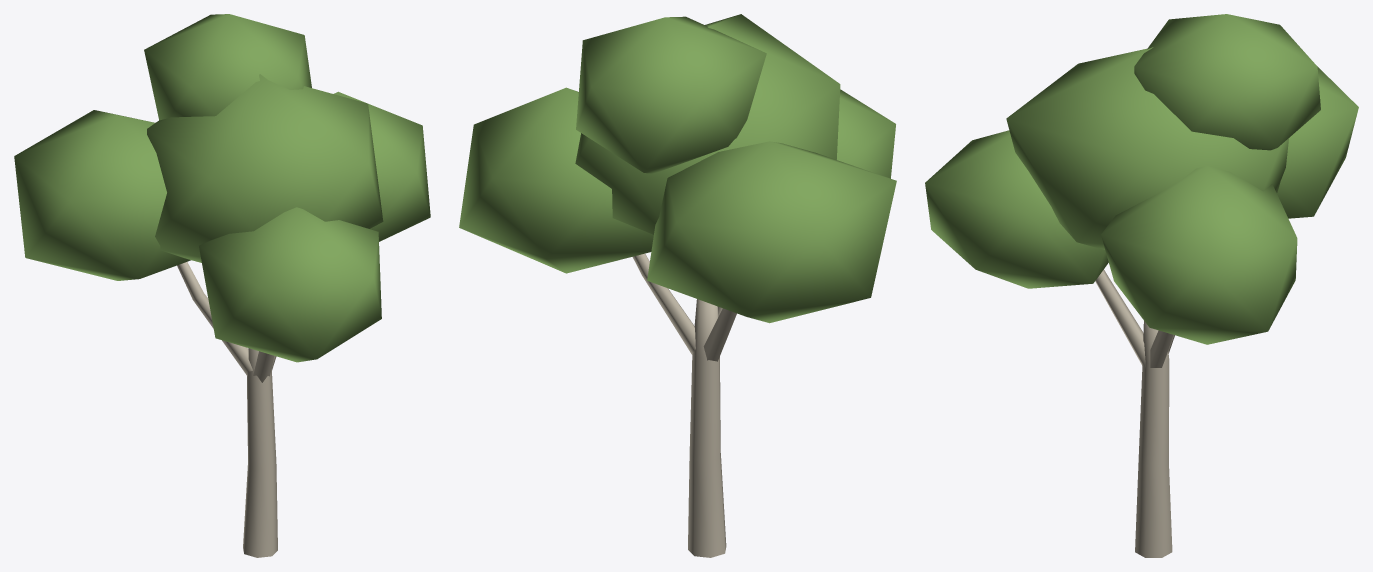
The picture shows the model from 3 angles, left to right: view 1: azimuth 30°, elevation 25°; view 2: azimuth 150°, elevation 25°; view 3: azimuth 270°, elevation 25°; orthographic projection. The views are drawn at different scales.
Visible parts, largest first — view 1: plane; view 2: plane; view 3: plane.
Boxes of the visible parts, left/top/right/bottom form: plane: left=14, top=14, right=430, bottom=557; plane: left=459, top=14, right=896, bottom=557; plane: left=925, top=14, right=1358, bottom=557.
Bounding box in the file's own units: 10.12 × 12.99 × 9.48.
